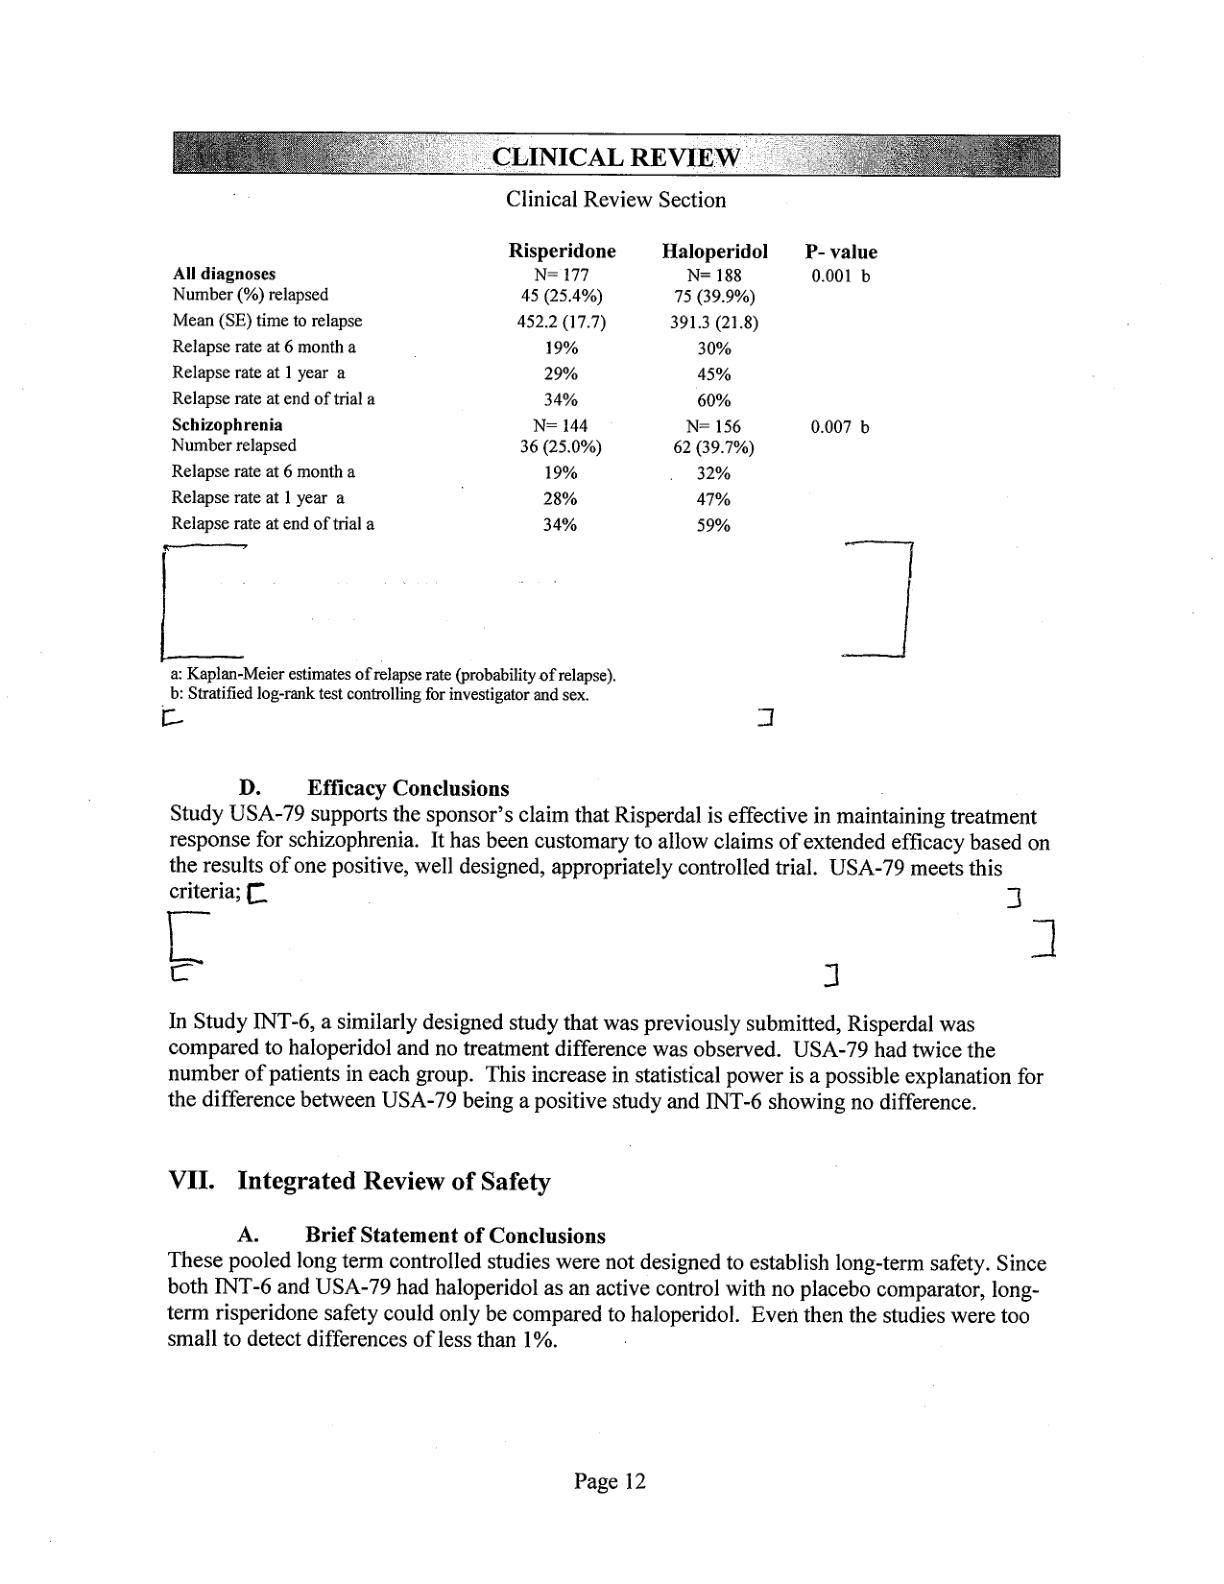nolines: (168, 242, 879, 537)
